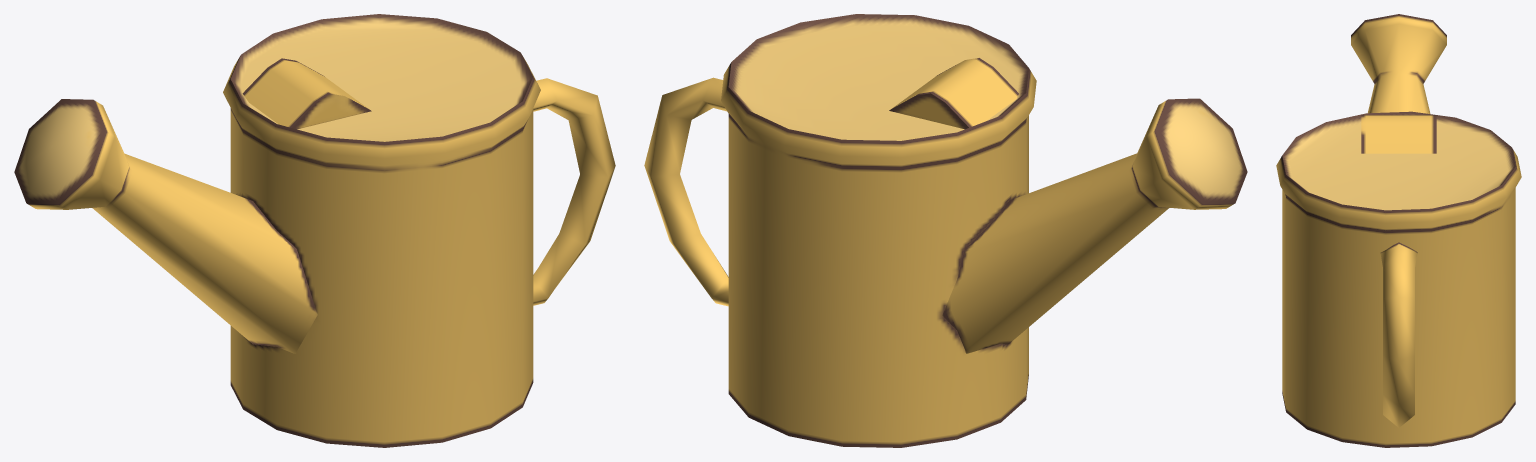
File: Watering Can.fbx
3 renders of one model, left to right at view 1: azimuth 30°, elevation 25°; view 2: azimuth 150°, elevation 25°; view 3: azimuth 270°, elevation 25°, orthographic. The views are drawn at different scales.
Parts seen in each view (by area): view 1: Watering_Can; view 2: Watering_Can; view 3: Watering_Can.
Boxes of the visible parts, bbox=[...] form: Watering_Can: bbox=[14, 14, 615, 447]; Watering_Can: bbox=[644, 14, 1247, 447]; Watering_Can: bbox=[1276, 14, 1521, 447].
Bounding box in the file's own units: 112 × 64.31 × 51.96.
1 material, 1 textured.
